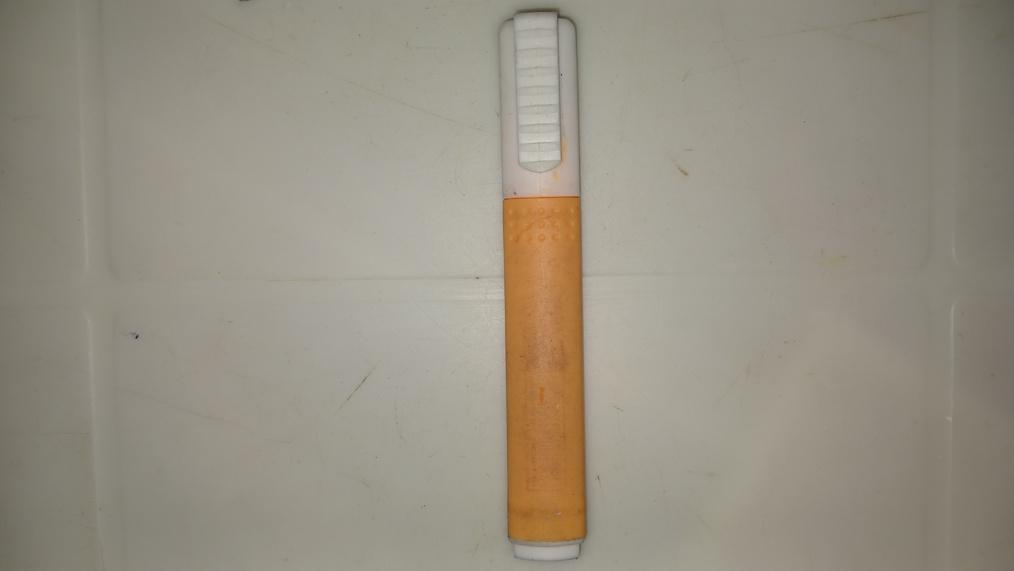Highlighter: (502, 10, 587, 562)
